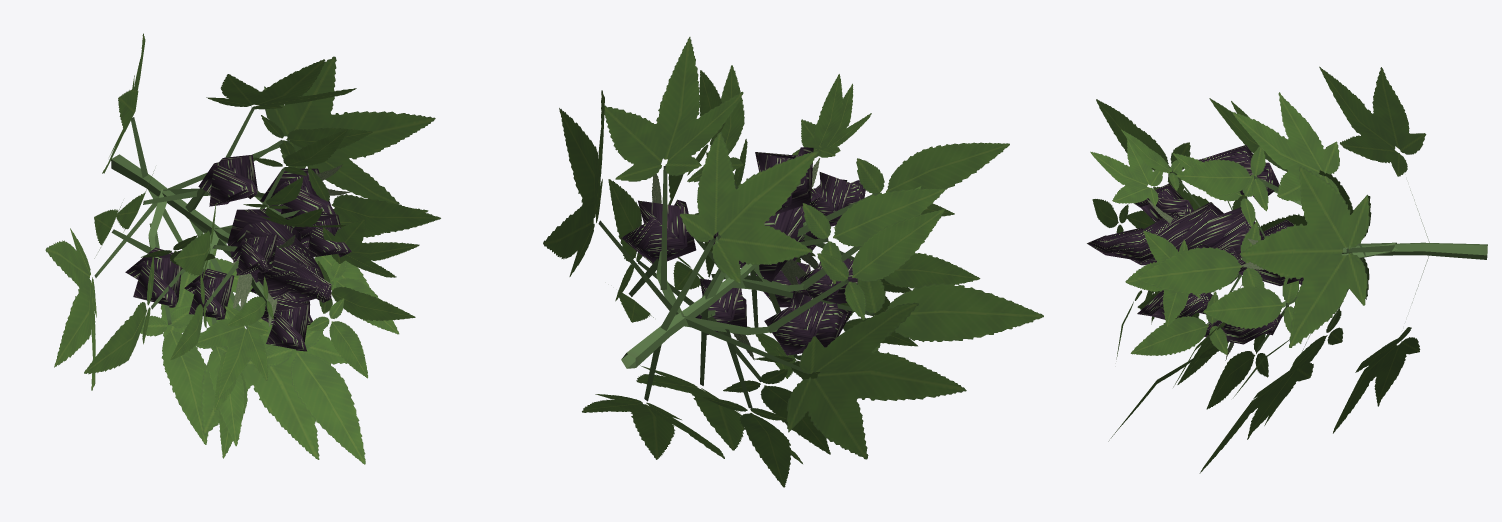
File: p_dark_auto_flowering_c0_cards.obj
3 renders of one model, left to right at view 1: azimuth 30°, elevation 25°; view 2: azimuth 150°, elevation 25°; view 3: azimuth 270°, elevation 25°, orthographic. The views are drawn at different scales.
Bounding box in the file's own units: 1.2 × 1.12 × 0.943.
Materials: 1 (1 with a texture image).
